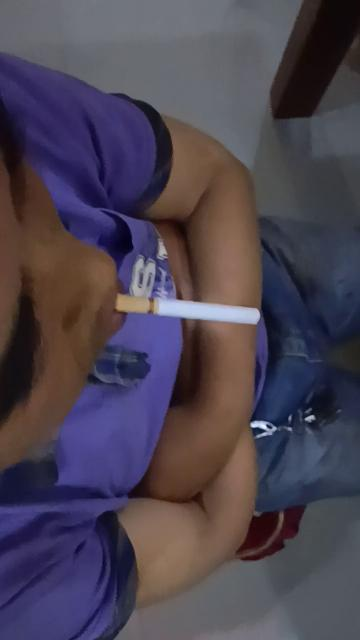Cigarette: (116, 294, 262, 326)
